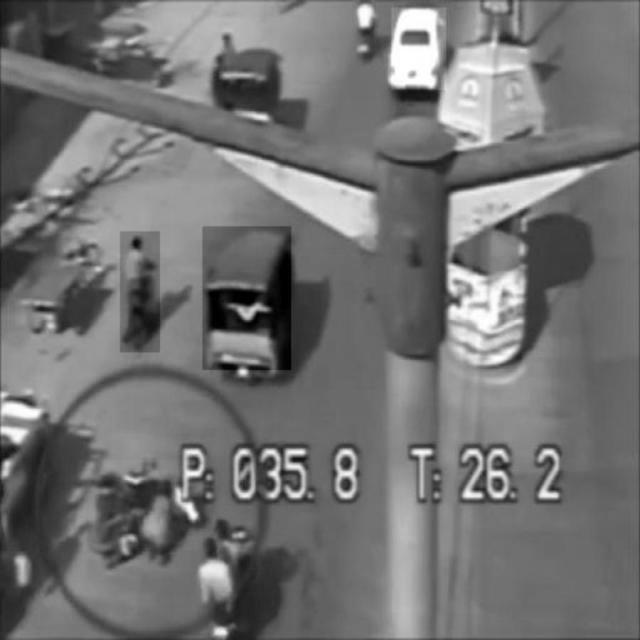vehicle: (203, 226, 291, 370), (78, 460, 202, 550), (120, 231, 160, 352), (392, 8, 447, 91)
